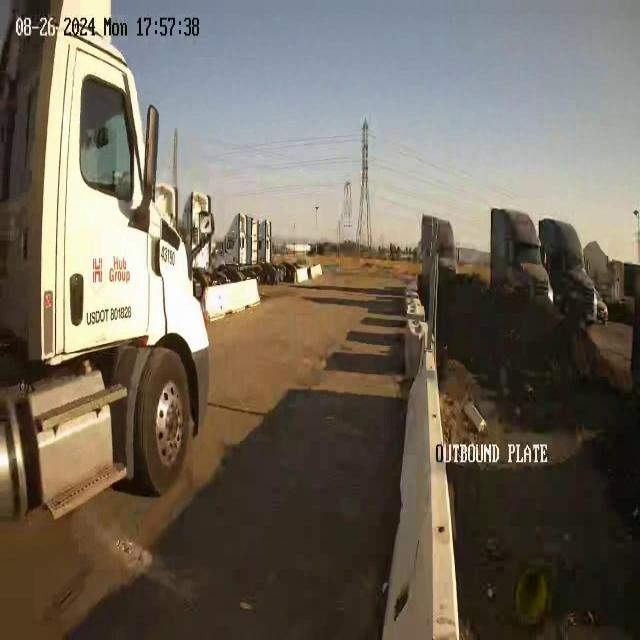TRUCK_IN: (0, 4, 212, 518)
